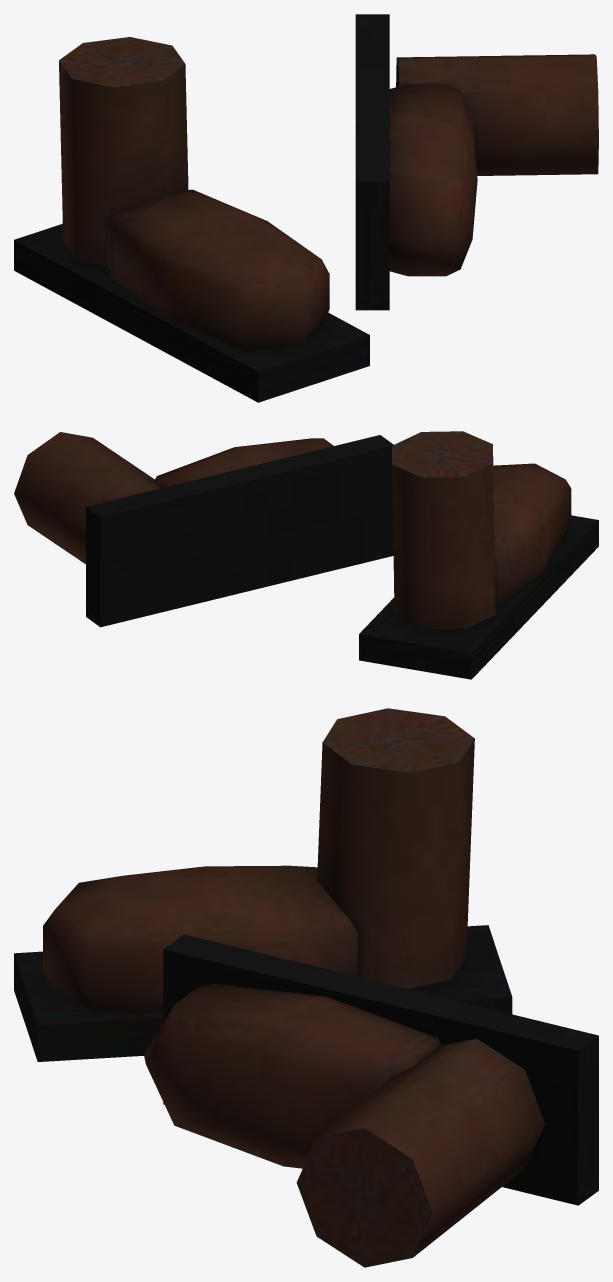
The model's file is boots_lod1_web.glb.
3 renders of one model, top to bottom at view 1: azimuth 30°, elevation 25°; view 2: azimuth 150°, elevation 25°; view 3: azimuth 270°, elevation 25°, orthographic. The views are drawn at different scales.
Visible parts, largest first — view 1: Boots_Body; view 2: Boots_Body; view 3: Boots_Body.
Boxes of the visible parts, x1,y1,x2,y2 form: Boots_Body: (14, 14, 598, 402); Boots_Body: (14, 431, 598, 679); Boots_Body: (14, 708, 598, 1267).
Bounding box in the file's own units: 0.454 × 0.1716 × 0.3418.
Materials: 1 (1 with a texture image).
